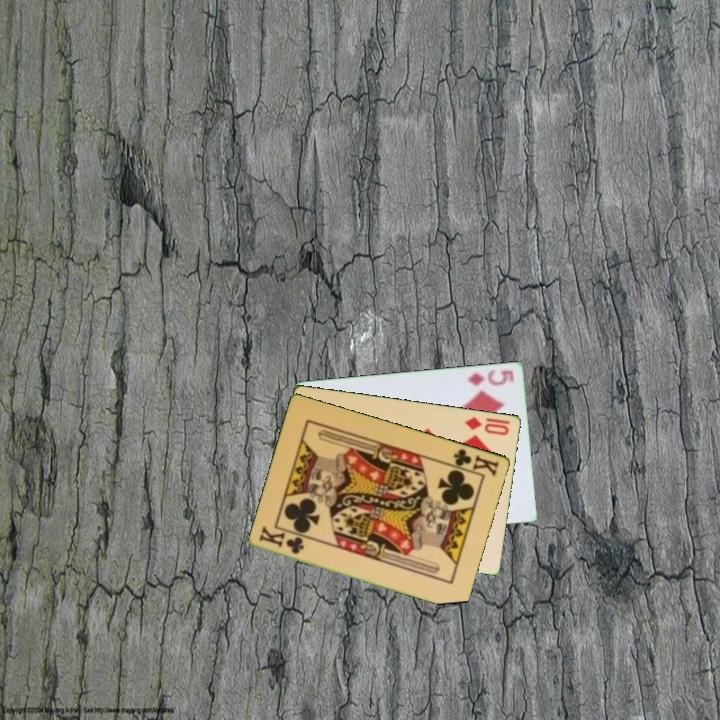10d: (461, 413, 513, 438)
5d: (465, 366, 517, 388)
Kc: (445, 445, 502, 479), (256, 524, 307, 557)
